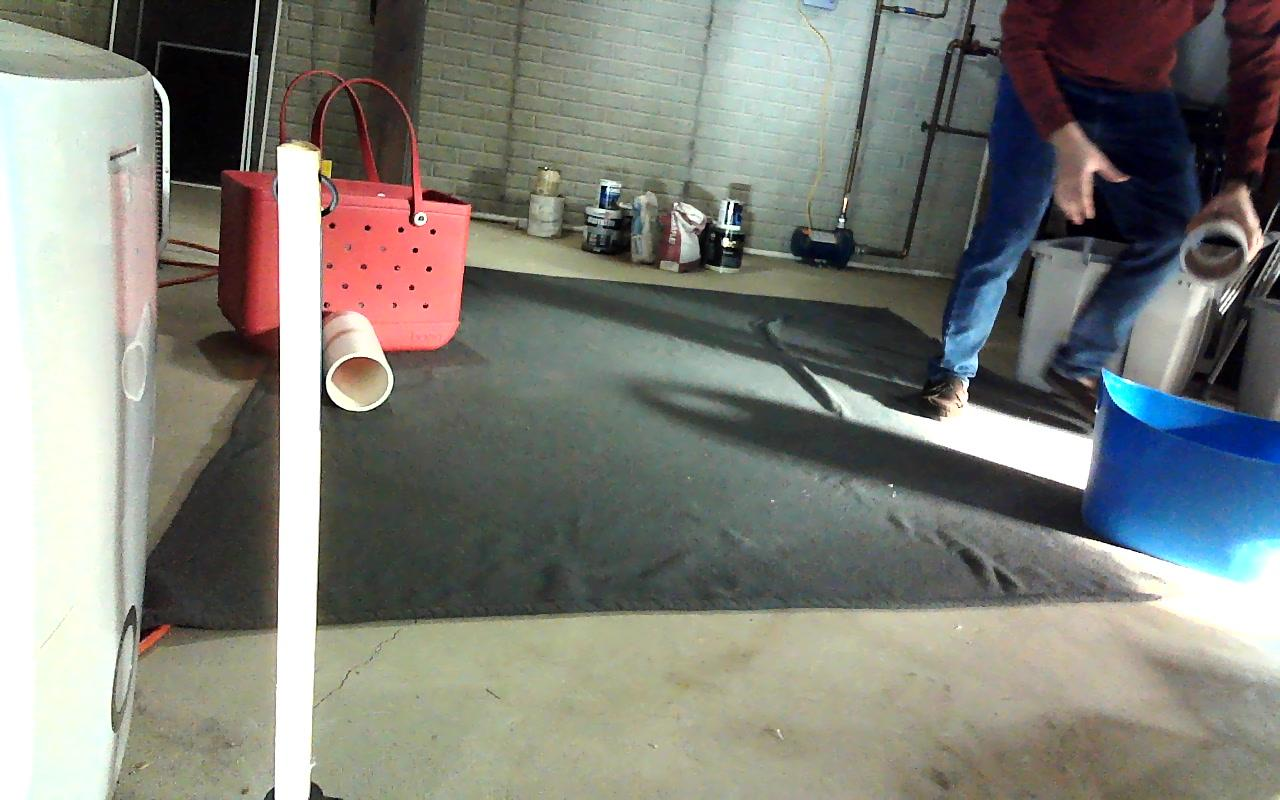coral: (322, 311, 393, 412)
